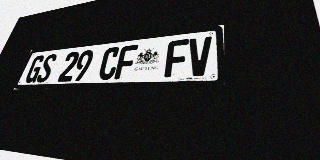2: (57, 51, 81, 82)
9: (71, 49, 95, 81)
C: (97, 46, 121, 80)
F: (164, 39, 189, 77), (114, 44, 138, 79)
G: (24, 55, 46, 83)
S: (35, 54, 58, 83)
V: (187, 36, 212, 76)
